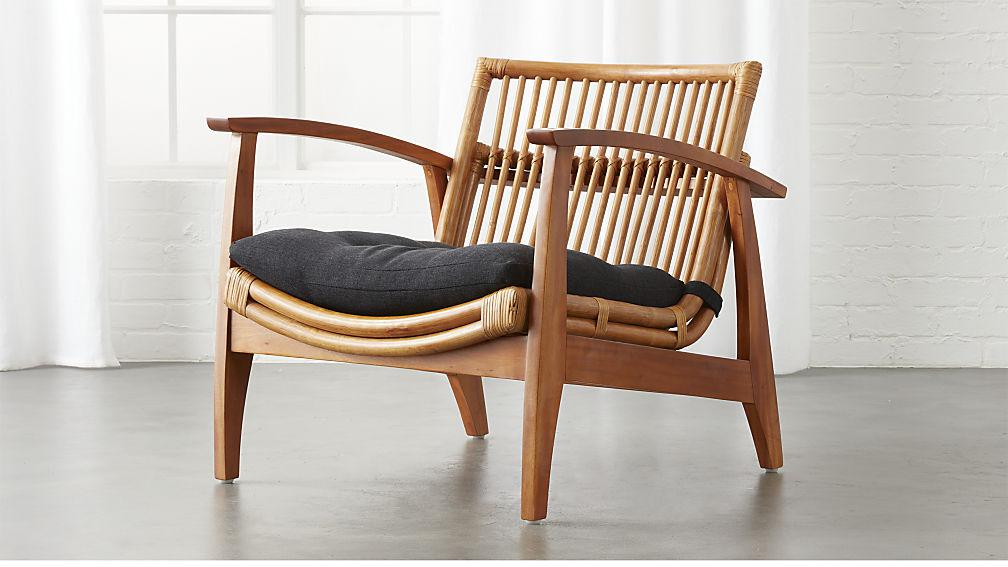chair: (170, 29, 831, 543)
